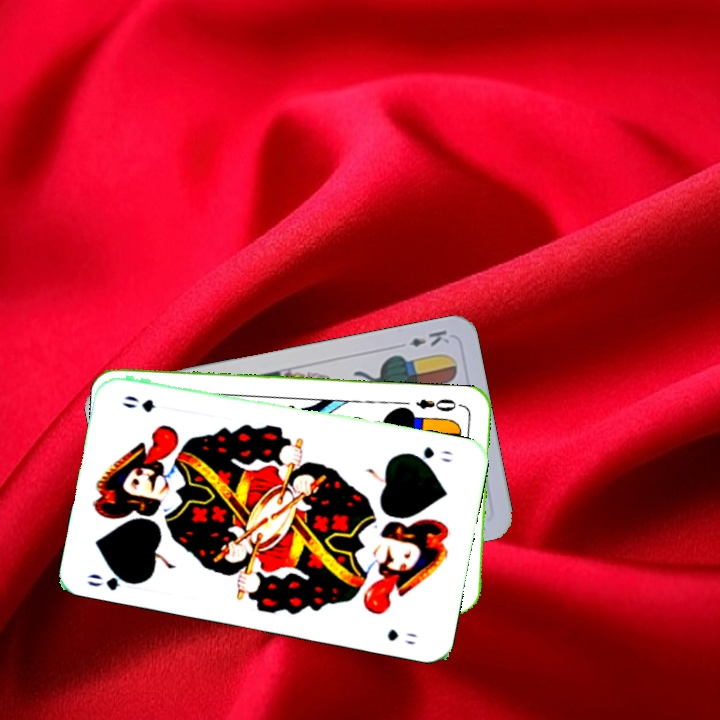EK: (405, 326, 452, 350)
EO: (412, 394, 465, 414)
GO: (83, 565, 143, 593), (403, 442, 456, 465)
